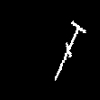double_crochet: (55, 22, 85, 79)
